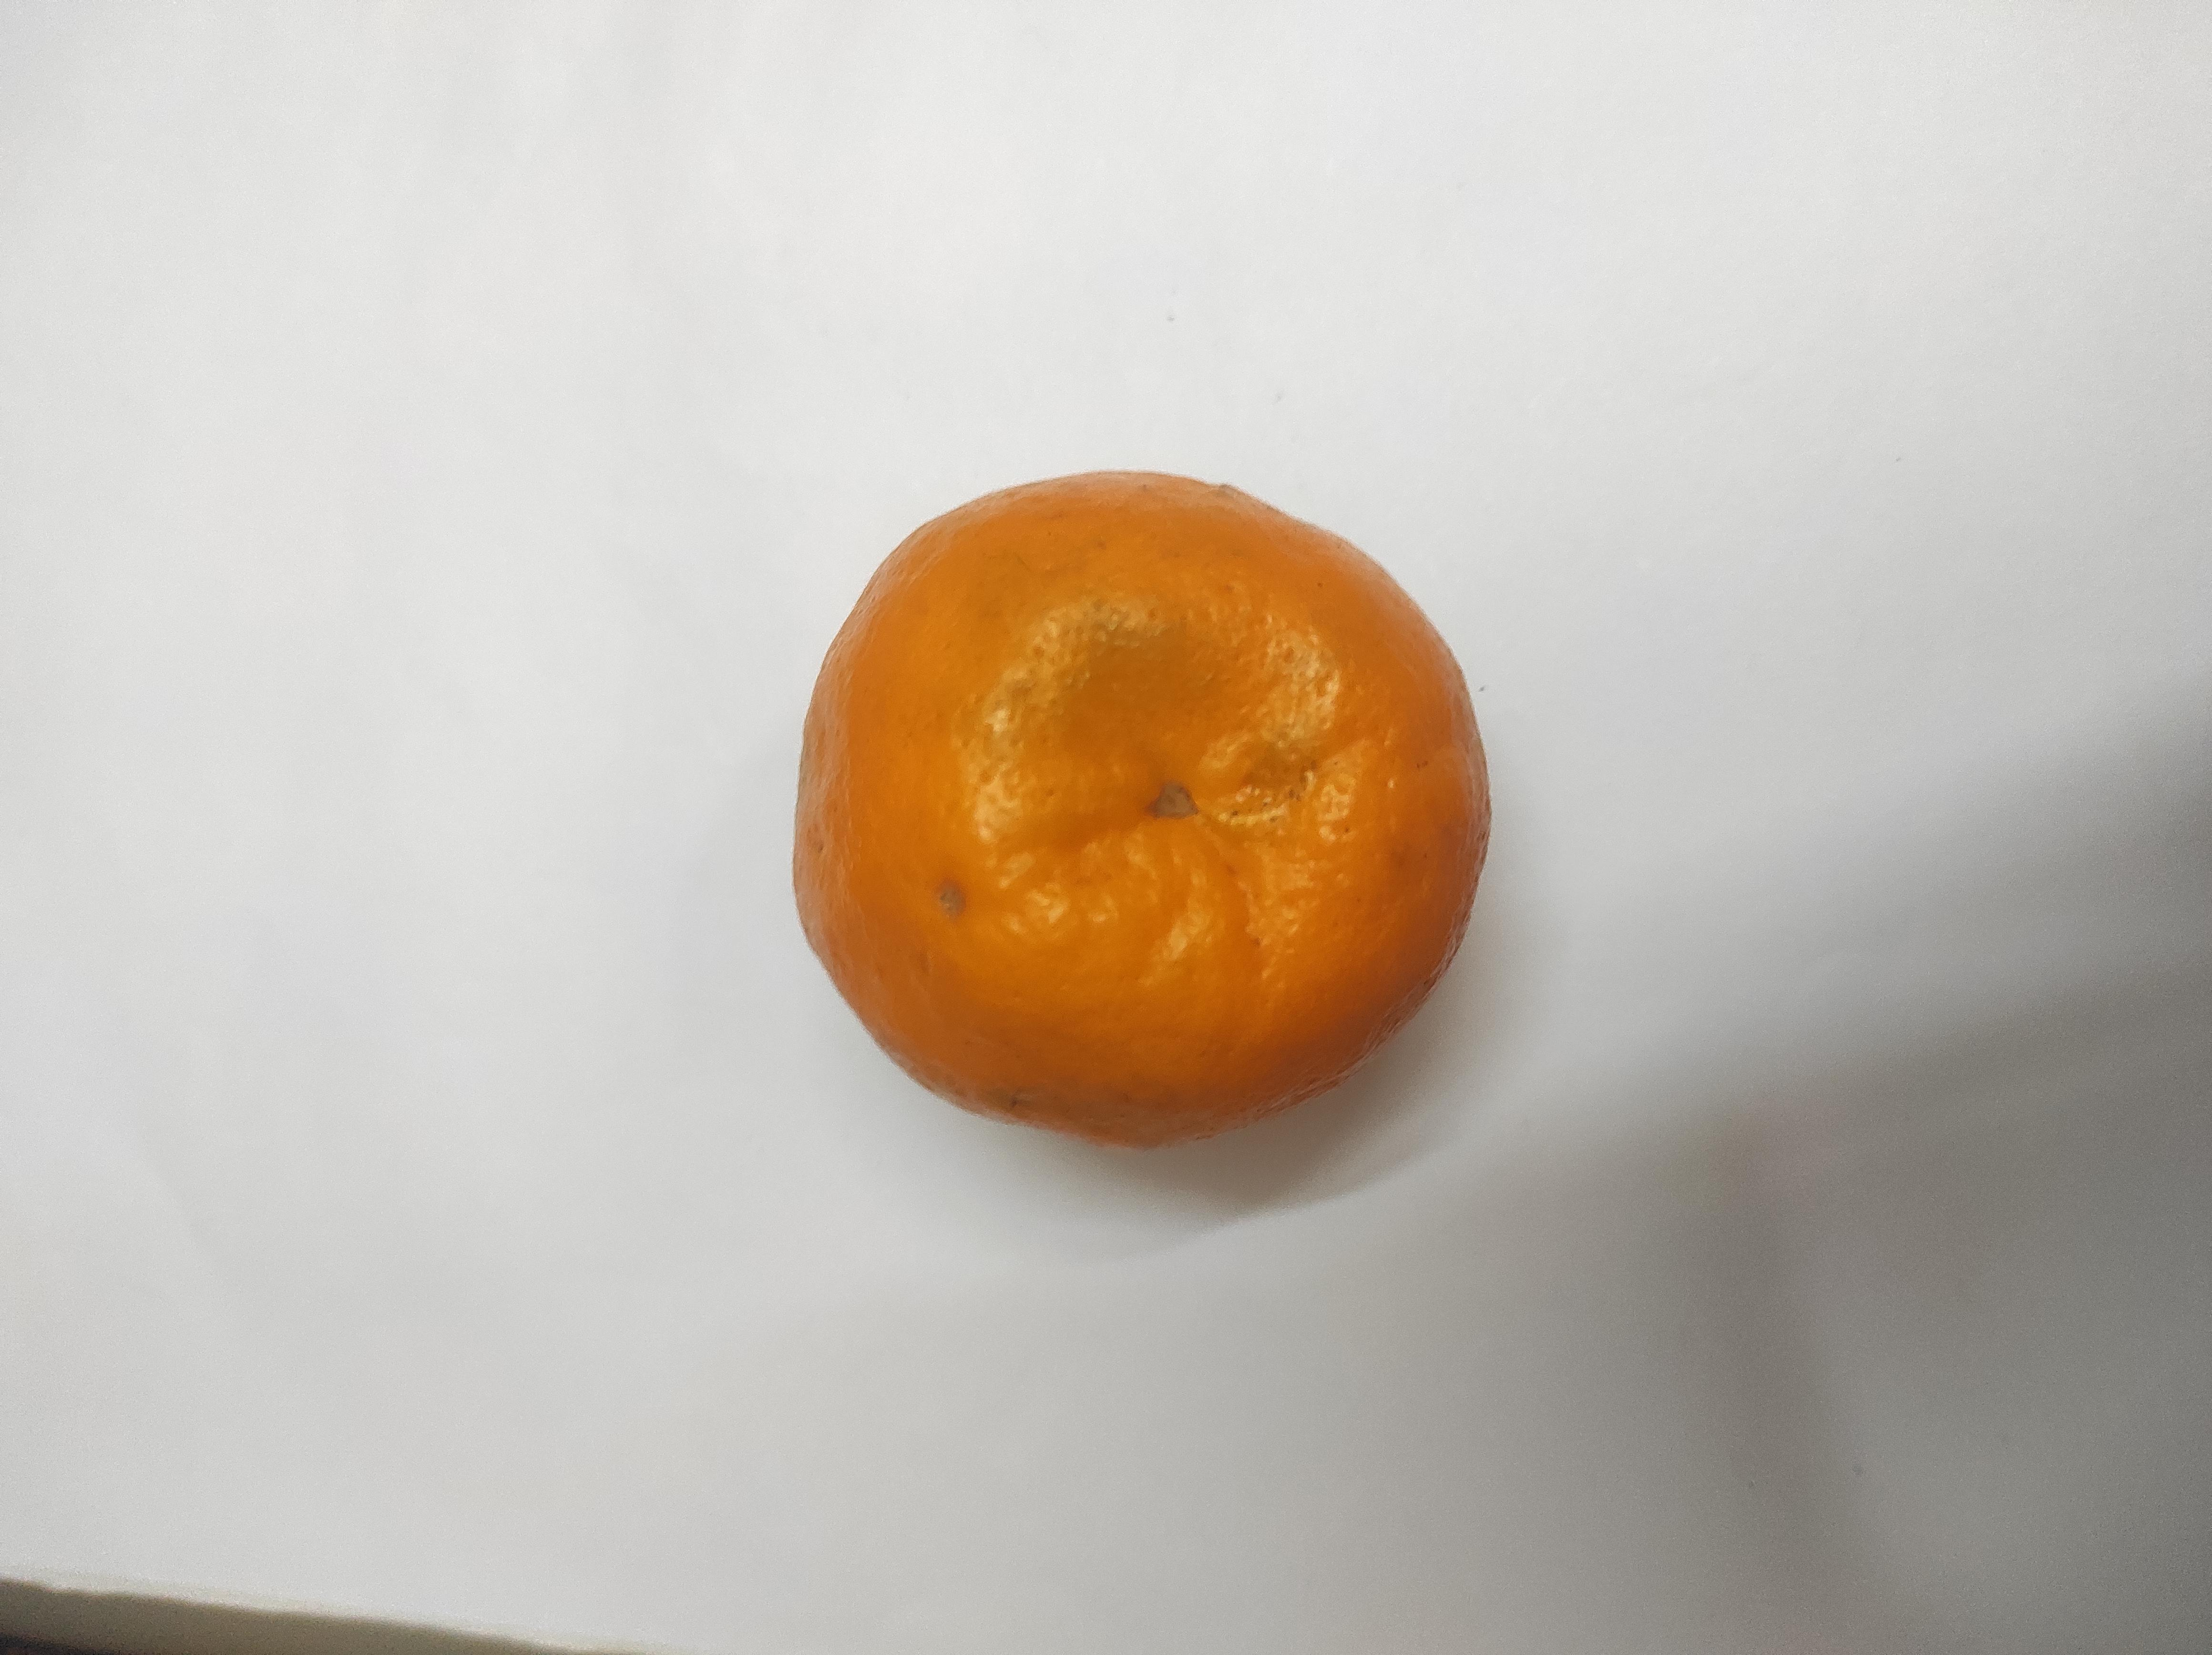Ripe: (805, 471, 1487, 1125)
